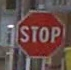stop: (15, 8, 65, 59)
